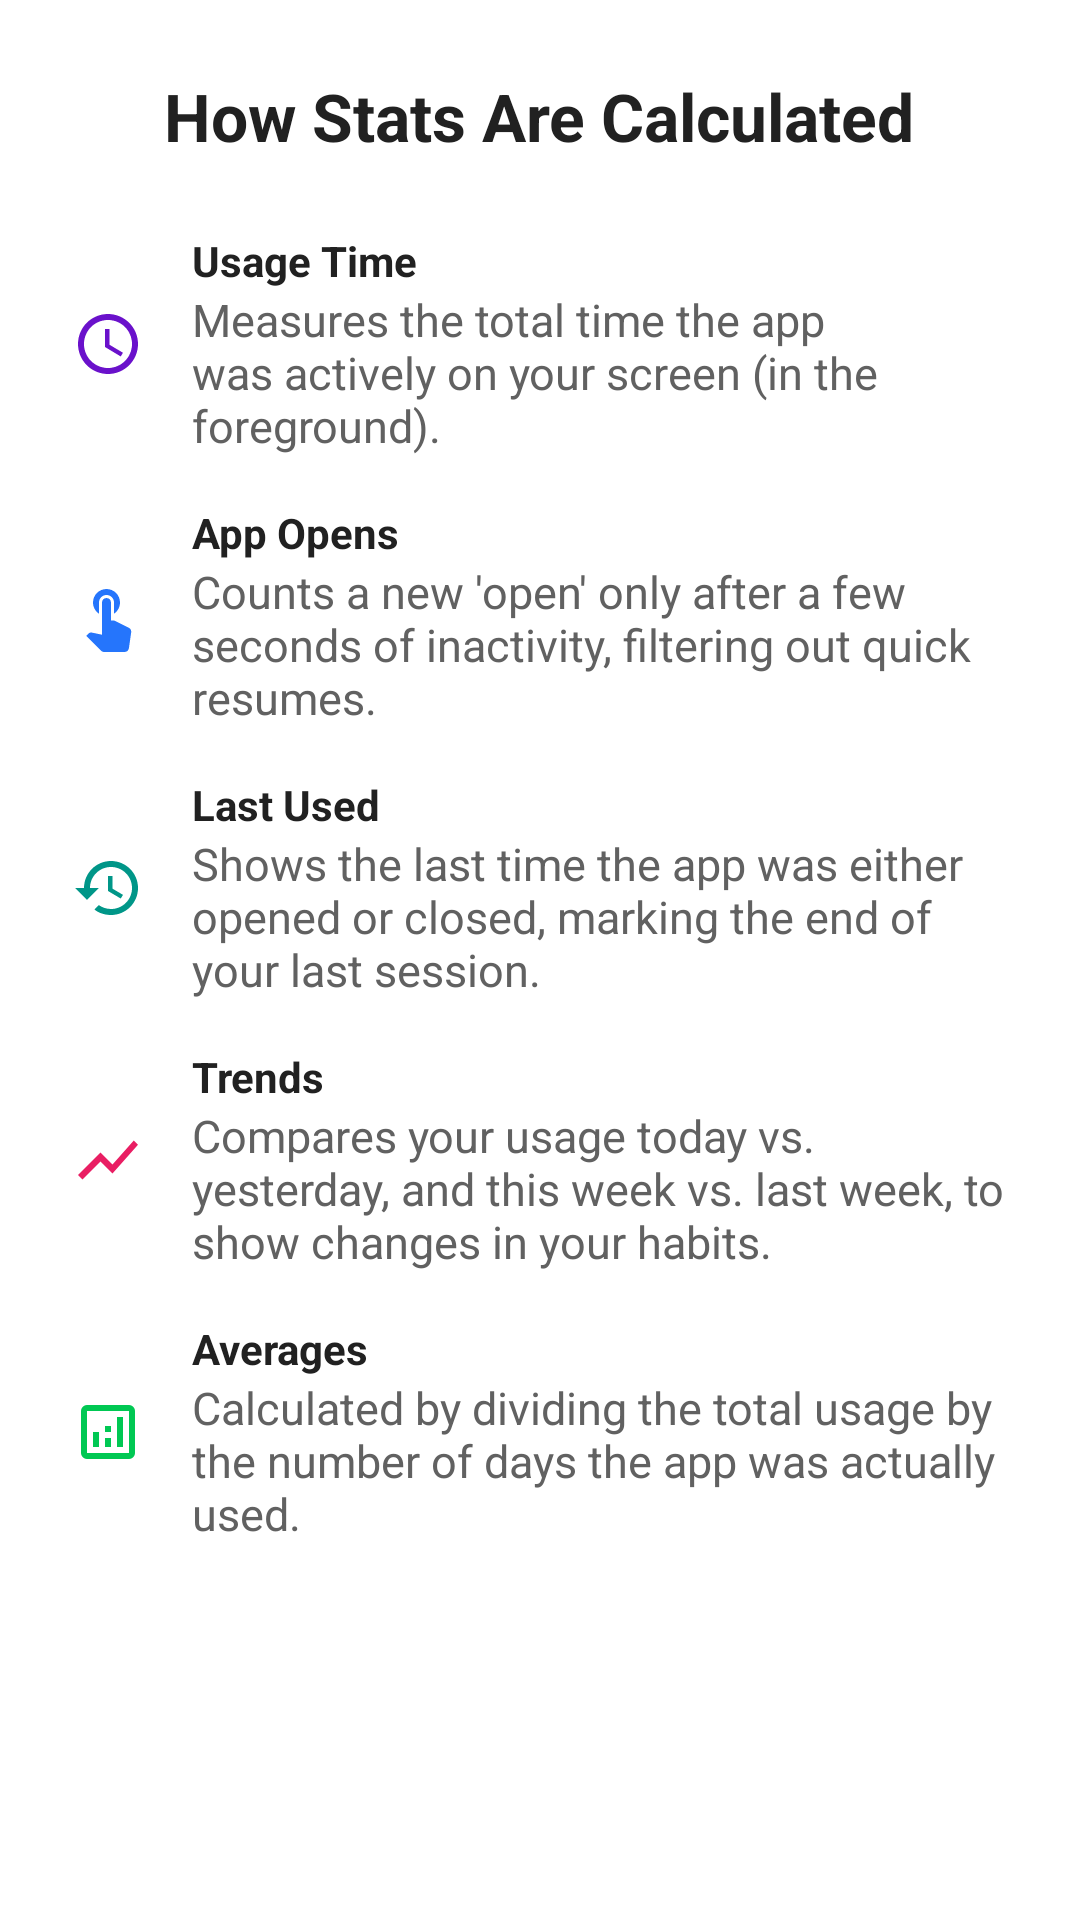

Named icons in this screenshot (1080x1920) and their bounding boxes, rect(x1, y1, x2, y2):
analytics: rect(81, 1405, 135, 1459)
daily trend: rect(78, 1140, 138, 1180)
today: rect(78, 314, 138, 374)
